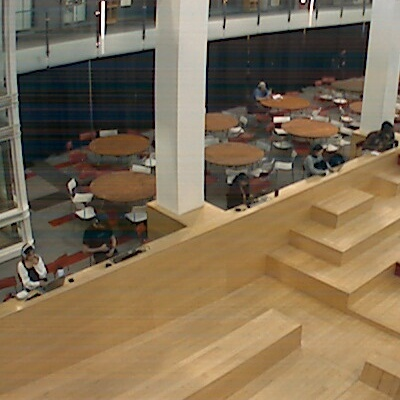head: (19, 242, 39, 262), (90, 214, 109, 233), (234, 171, 252, 189), (309, 143, 325, 159), (378, 120, 394, 136), (257, 80, 268, 91)
